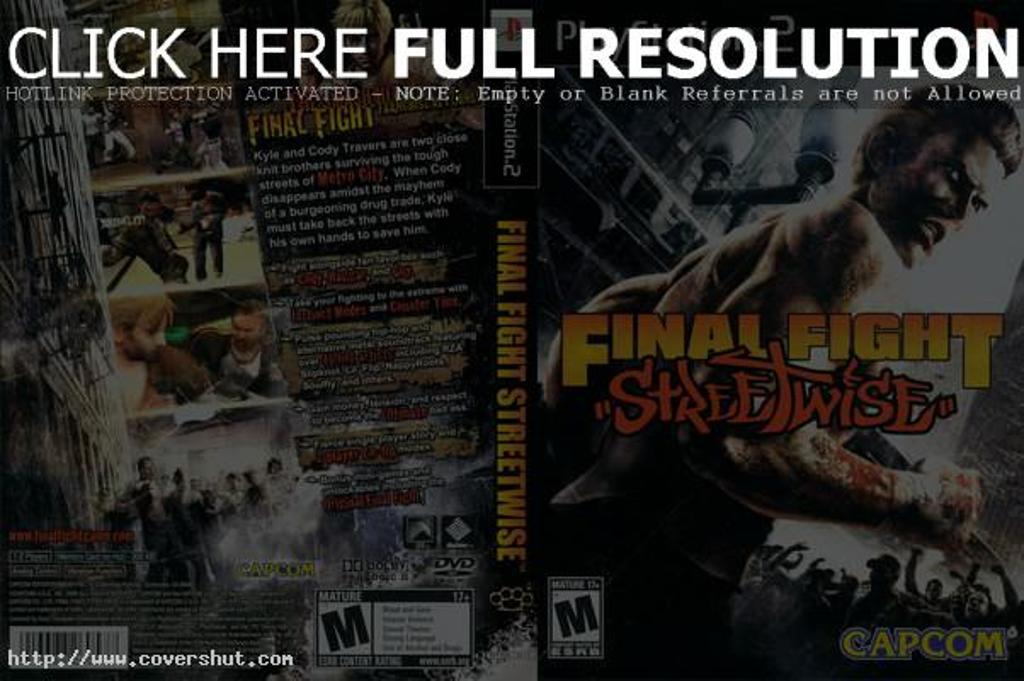face: (876, 132, 1003, 271), (128, 308, 168, 360), (234, 314, 261, 353), (870, 566, 895, 590), (967, 593, 988, 616), (144, 200, 159, 216), (928, 585, 942, 600), (164, 258, 176, 274), (108, 250, 122, 263), (208, 139, 220, 154), (176, 130, 187, 146), (144, 461, 155, 477), (201, 199, 211, 212), (246, 473, 256, 483), (270, 463, 279, 474), (161, 474, 170, 484), (228, 479, 238, 488), (191, 479, 199, 489), (178, 481, 186, 490)
